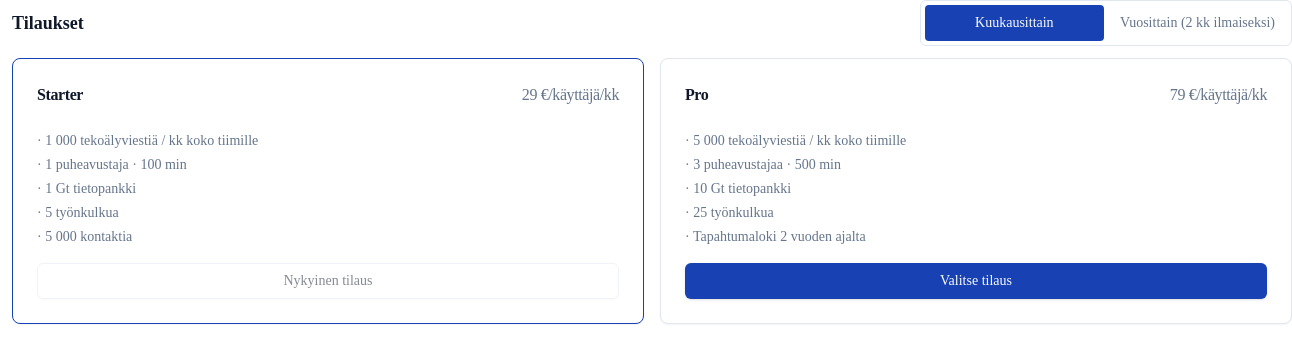
it: PlanCards interval toggle (fi) › switching to annual keeps the same price rule and checkout arguments
Click the button "Vuosittain (2 kk ilmaiseksi)" at (1197, 23), box left=1108, top=5, right=1287, bottom=41
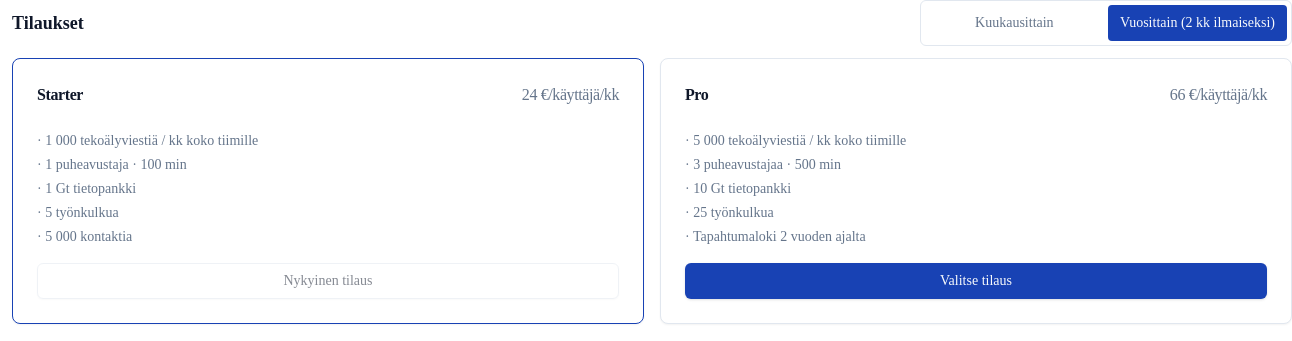
Now the text "24 €/käyttäjä/kk" is shown, box left=522, top=83, right=619, bottom=107
Now the text "66 €/käyttäjä/kk" is shown, box left=1170, top=83, right=1267, bottom=107
